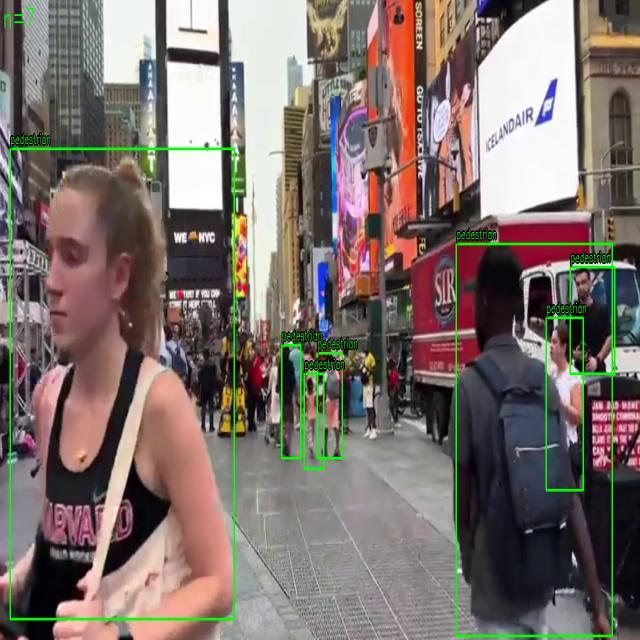with scooter: (10, 148, 234, 620), (456, 244, 612, 636), (546, 317, 584, 491), (570, 266, 615, 374), (317, 353, 343, 459), (281, 345, 301, 459), (304, 374, 324, 469)
